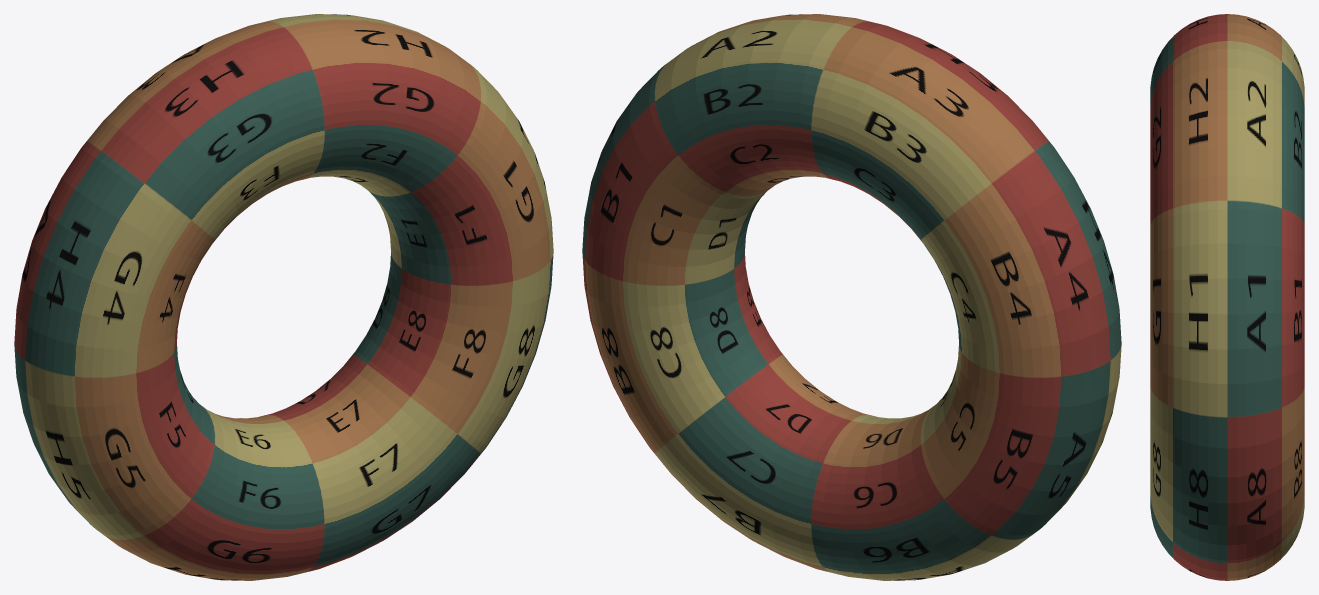
Rendered from texture_torus_R8_r14.glb.
3 views of the same model, side by side, from view 1: azimuth 30°, elevation 25°; view 2: azimuth 150°, elevation 25°; view 3: azimuth 270°, elevation 25° (orthographic). The views are drawn at different scales.
Parts seen in each view (by area): view 1: world; view 2: world; view 3: world.
Boxes of the visible parts, <box> form: world: <box>14,14,553,580</box>; world: <box>582,14,1121,580</box>; world: <box>1150,14,1304,580</box>.
Size of the model in its own units: 21.07 by 21.03 by 5.72.
Materials: 1 (1 with a texture image).
